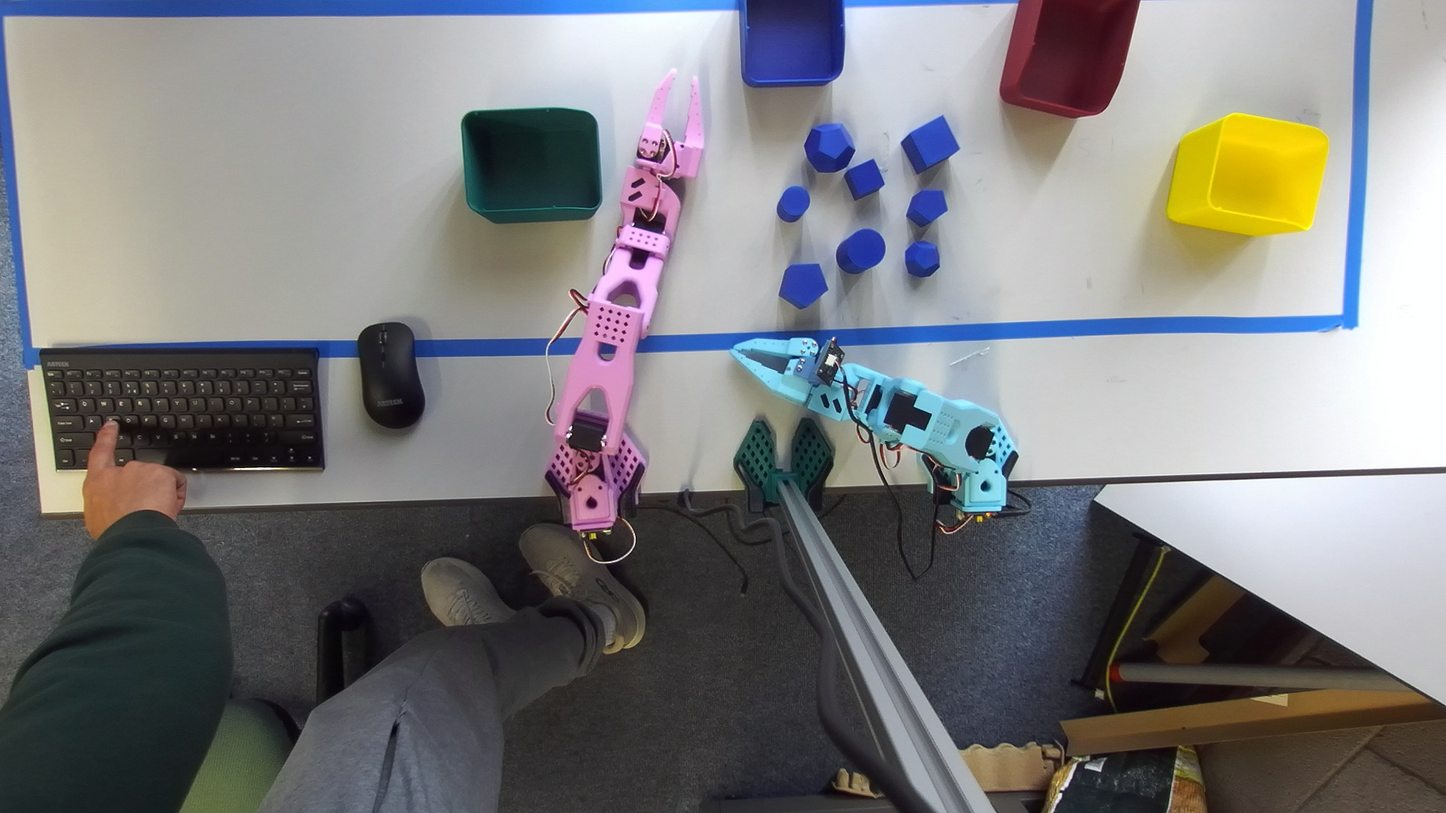bin: (1166, 113, 1328, 235), (999, 0, 1139, 117), (461, 108, 602, 223), (739, 0, 844, 87)
cube: (901, 116, 959, 173), (843, 160, 883, 200)
cylinder: (836, 229, 885, 273), (776, 185, 810, 222)
dodecahedron: (804, 123, 855, 172), (905, 241, 939, 277)
gripper: (636, 69, 704, 178), (731, 338, 814, 403)
hexagonal: (779, 263, 827, 308), (906, 190, 947, 227)
